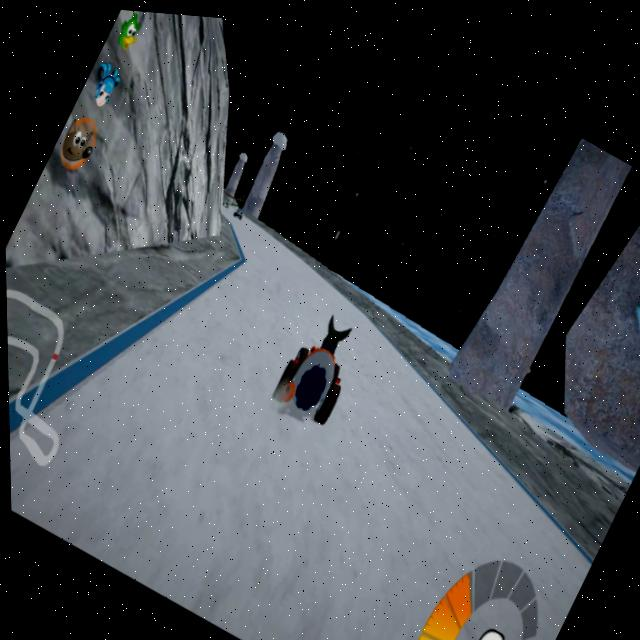enemy_kart: (229, 198, 246, 219)
player_kart: (261, 295, 370, 425)
track: (221, 212, 337, 302)
